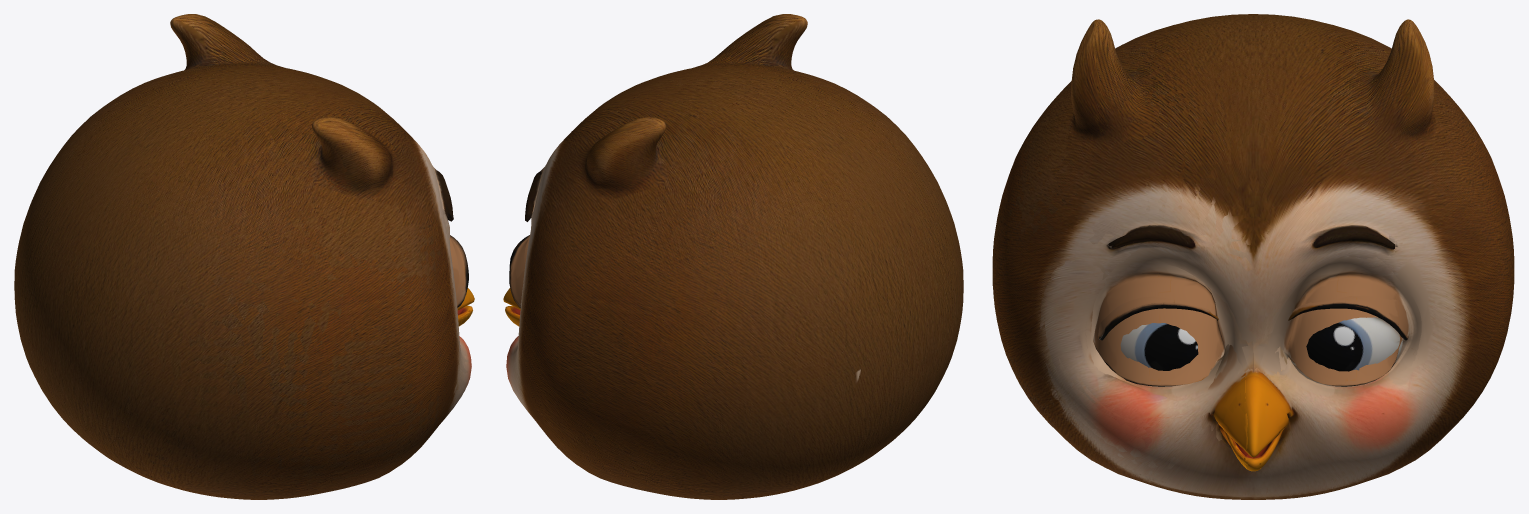
File: buho.glb
The picture shows the model from 3 angles, left to right: view 1: azimuth 30°, elevation 25°; view 2: azimuth 150°, elevation 25°; view 3: azimuth 270°, elevation 25°; orthographic projection. The views are drawn at different scales.
Parts seen in each view (by area): view 1: original, tripo_node_2662d5f2; view 2: tripo_node_2662d5f2, original; view 3: tripo_node_2662d5f2, original.
Boxes of the visible parts, x1,y1,x2,y2 form: original: [14, 14, 472, 499]; tripo_node_2662d5f2: [38, 14, 474, 498]; tripo_node_2662d5f2: [503, 14, 963, 499]; original: [506, 14, 963, 499]; tripo_node_2662d5f2: [992, 14, 1514, 499]; original: [992, 14, 1511, 499].
Size of the model in its own units: 99.78 by 90.17 by 95.86.
1 material, 1 textured.
